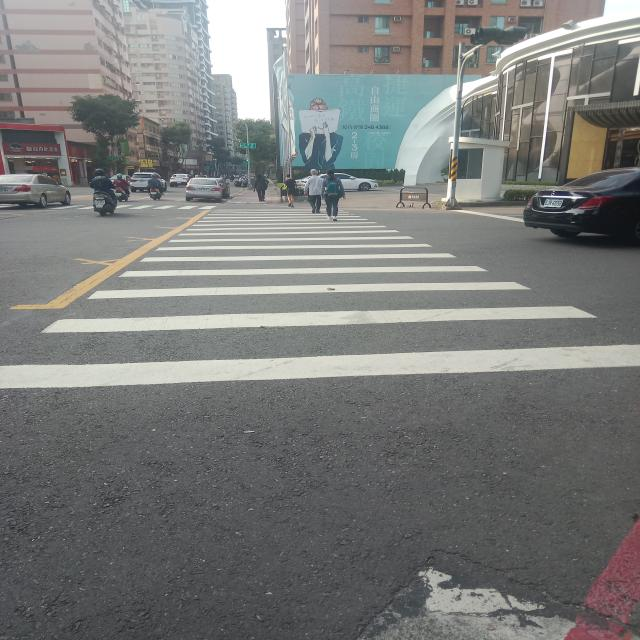person: (323, 170, 345, 221), (303, 169, 323, 214)
zebra crossing: (0, 205, 638, 392)
